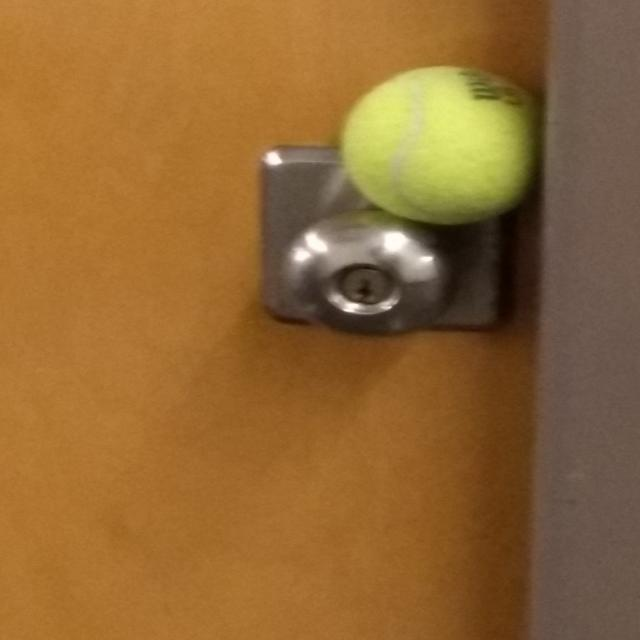Tennis-Ball: (337, 64, 559, 229)
